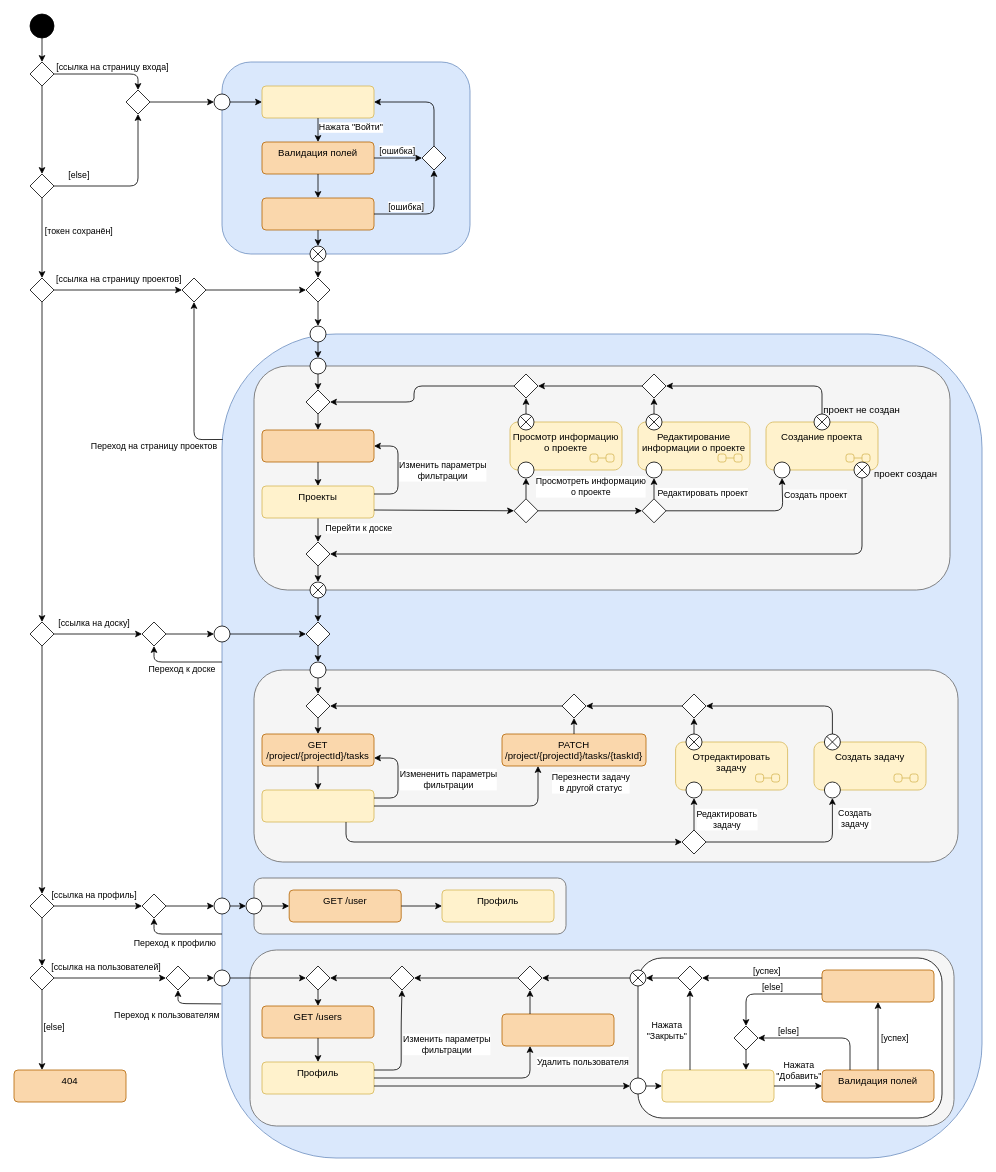
This 996x1172 diagram has some shape labels left out. Each missing label, with the centre of its shape:
DELETE /user/{userId}: point (557, 1029)
GET /projects: point (317, 445)
POST /log-in: point (317, 213)
POST /user: point (877, 985)
Доска: point (317, 805)
Форма входа: point (317, 101)
Форма добавления пользователя: point (717, 1085)
